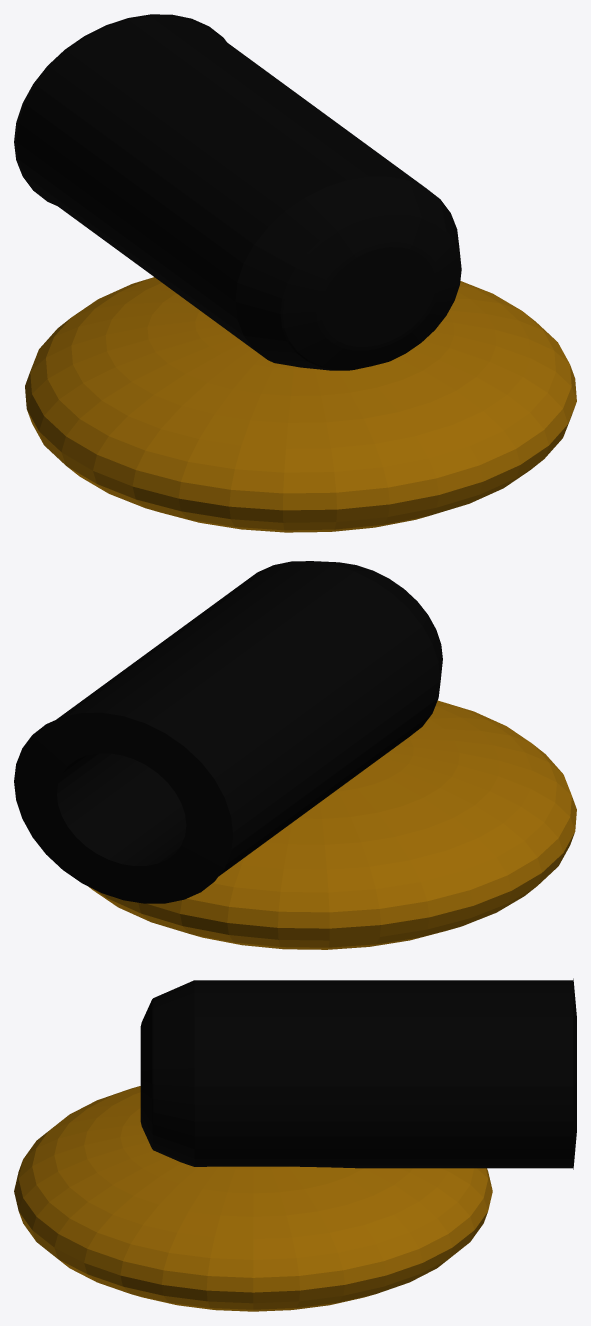
File: cannon.fbx
3 renders of one model, top to bottom at view 1: azimuth 30°, elevation 25°; view 2: azimuth 150°, elevation 25°; view 3: azimuth 270°, elevation 25°, orthographic. The views are drawn at different scales.
Visible parts, largest first — view 1: Cylinder, Sphere; view 2: Cylinder, Sphere; view 3: Cylinder, Sphere.
Boxes of the visible parts, x1,y1,x2,y2 form: Cylinder: (14, 14, 461, 370); Sphere: (25, 277, 576, 532); Cylinder: (14, 561, 442, 903); Sphere: (88, 700, 576, 949); Cylinder: (140, 978, 576, 1169); Sphere: (14, 1086, 492, 1311).
Size of the model in its own units: 200 by 125 by 235.
